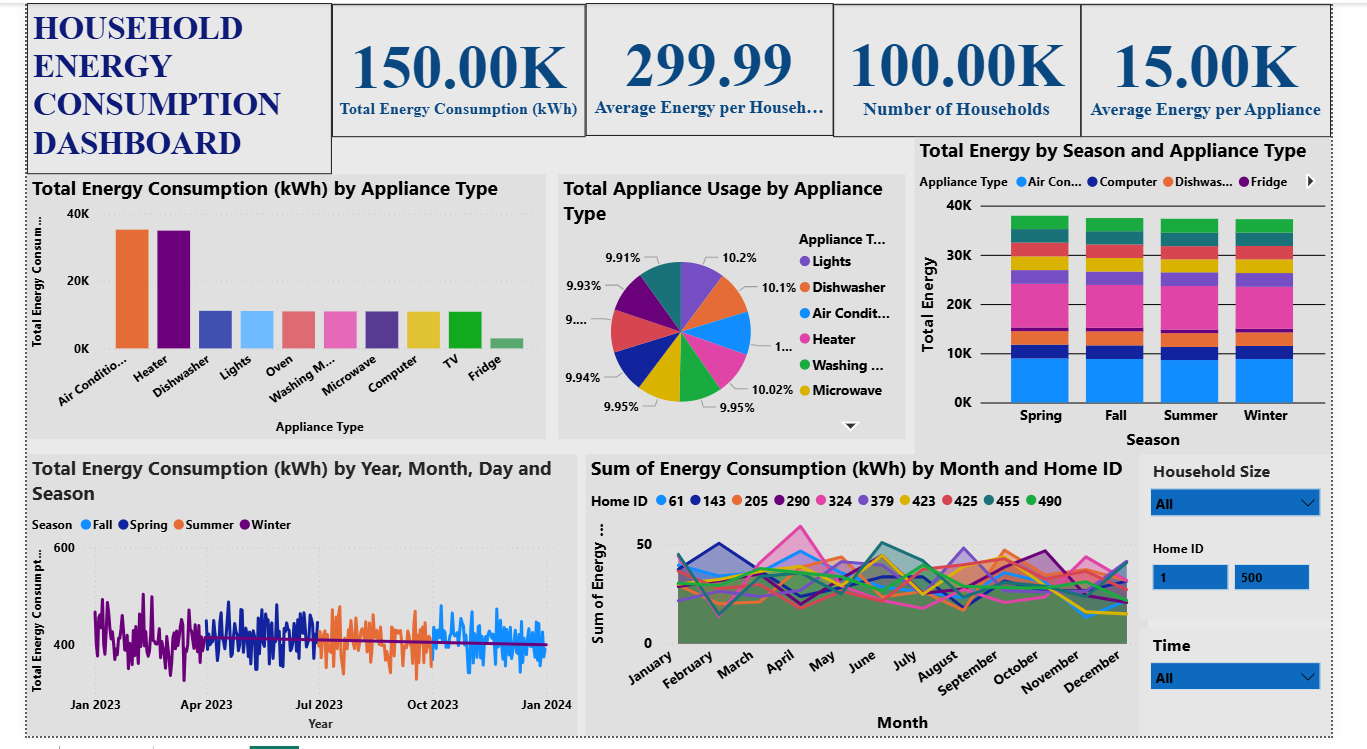

The dashboard page shown, as its layout file describes it:
{"tool":"powerbi","page":{"name":"Page 1","canvas":[1280,720],"ordinal":0},"visuals":[{"type":"card","fields":{"Values":["Sum(powerconsumption dataset.Energy Consumption (kWh))"]},"box":[299.4,1.2,249.1,130.1],"z":0},{"type":"card","fields":{"Values":["powerconsumption dataset.Average Energy per House"]},"box":[548.5,0,242.9,130.1],"z":1000},{"type":"card","fields":{"Values":["CountNonNull(powerconsumption dataset.Home ID)"]},"box":[791.4,1.2,242.9,130.1],"z":2000},{"type":"textbox","box":[0,0,299.4,168.1],"z":3000},{"type":"card","fields":{"Values":["powerconsumption dataset.Average Energy per Appliance"]},"box":[1034.4,1.2,245.4,130.1],"z":4000},{"type":"lineChart","fields":{"Y":["Sum(powerconsumption dataset.Energy Consumption (kWh))"],"Series":["powerconsumption dataset.Season"],"Category":["powerconsumption dataset.Date.Variation.Date Hierarchy.Year","powerconsumption dataset.Date.Variation.Date Hierarchy.Month","powerconsumption dataset.Date.Variation.Date Hierarchy.Day"]},"box":[0,442.9,539.9,277.3],"z":5000},{"type":"areaChart","fields":{"Y":["Sum(powerconsumption dataset.Energy Consumption (kWh))"],"Series":["powerconsumption dataset.Home ID"],"Category":["powerconsumption dataset.Date.Variation.Date Hierarchy.Month"]},"box":[548.5,442.9,552.2,277.3],"z":6000},{"type":"columnChart","fields":{"Y":["Sum(powerconsumption dataset.Energy Consumption (kWh))"],"Category":["powerconsumption dataset.Appliance Type"]},"box":[0,168.1,509.2,260.1],"z":7000},{"type":"pieChart","fields":{"Y":["Sum(powerconsumption dataset.Appliance Usage)"],"Category":["powerconsumption dataset.Appliance Type"]},"box":[521.5,168.1,341.1,260.1],"z":8000},{"type":"columnChart","fields":{"Category":["powerconsumption dataset.Season"],"Y":["powerconsumption dataset.Total Energy"],"Series":["powerconsumption dataset.Appliance Type"]},"box":[871.2,131.3,408.6,311.7],"z":9000},{"type":"slicer","fields":{"Values":["powerconsumption dataset.Household Size"]},"box":[1092,442.9,187.7,79.8],"z":10000},{"type":"slicer","fields":{"Values":["powerconsumption dataset.Home ID"]},"box":[1092,522.7,187.7,82.2],"z":11000},{"type":"slicer","fields":{"Values":["powerconsumption dataset.Time"]},"box":[1092,613.5,187.7,106.7],"z":12000}]}

Visuals, with their boxes in screenshot pixels (x1, y1, x2, y2), scaled from the page's 1280x720 canvas onto the 1367x749 screenshot:
card - Sum(powerconsumption dataset.Energy Consumption (kWh)): 320,1,586,137
card - powerconsumption dataset.Average Energy per House: 586,0,845,135
card - CountNonNull(powerconsumption dataset.Home ID): 845,1,1105,137
textbox: 0,0,320,175
card - powerconsumption dataset.Average Energy per Appliance: 1105,1,1366,137
lineChart - Sum(powerconsumption dataset.Energy Consumption (kWh)) x powerconsumption dataset.Season: 0,461,577,748
areaChart - Sum(powerconsumption dataset.Energy Consumption (kWh)) x powerconsumption dataset.Home ID: 586,461,1176,748
columnChart - Sum(powerconsumption dataset.Energy Consumption (kWh)) x powerconsumption dataset.Appliance Type: 0,175,544,445
pieChart - Sum(powerconsumption dataset.Appliance Usage) x powerconsumption dataset.Appliance Type: 557,175,921,445
columnChart - powerconsumption dataset.Season x powerconsumption dataset.Total Energy: 930,137,1366,461
slicer - powerconsumption dataset.Household Size: 1166,461,1366,544
slicer - powerconsumption dataset.Home ID: 1166,544,1366,629
slicer - powerconsumption dataset.Time: 1166,638,1366,748
